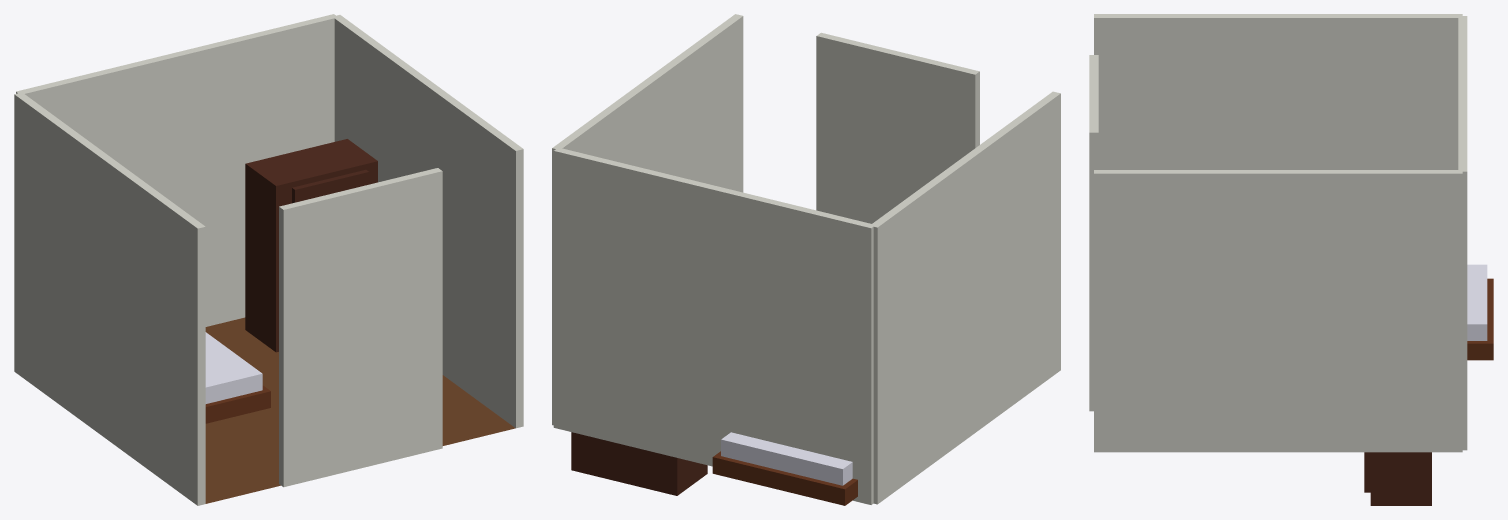
The model's file is boq_professional_6902c2b7-2c0d-40c5-b3c1-3f2d56eba36f.obj.
3 views of the same model, side by side, from view 1: azimuth 30°, elevation 25°; view 2: azimuth 150°, elevation 25°; view 3: azimuth 270°, elevation 25° (orthographic).
Parts seen in each view (by area): view 1: LeftWall_living_room, FrontWall_living_room, BackWall_living_room, RightWall_living_room, Floor_living_room, Wardrobe_living_room, Mattress_living_room, BedFrame_living_room, WardrobeDoor1_living_room, WardrobeDoor2_living_room; view 2: BackWall_living_room, LeftWall_living_room, FrontWall_living_room, RightWall_living_room, Wardrobe_living_room, Mattress_living_room, BedFrame_living_room; view 3: RightWall_living_room, LeftWall_living_room, Wardrobe_living_room, BackWall_living_room, FrontWall_living_room, Mattress_living_room, BedFrame_living_room.
Boxes of the visible parts, x1,y1,x2,y2 form: LeftWall_living_room: [14, 92, 205, 505]; FrontWall_living_room: [279, 168, 442, 487]; BackWall_living_room: [16, 14, 337, 326]; RightWall_living_room: [334, 15, 523, 428]; Floor_living_room: [205, 317, 515, 503]; Wardrobe_living_room: [245, 139, 377, 352]; Mattress_living_room: [205, 332, 262, 403]; BedFrame_living_room: [205, 385, 270, 423]; WardrobeDoor1_living_room: [292, 176, 342, 203]; WardrobeDoor2_living_room: [319, 169, 369, 194]; BackWall_living_room: [553, 147, 875, 504]; LeftWall_living_room: [871, 91, 1060, 504]; FrontWall_living_room: [816, 32, 979, 223]; RightWall_living_room: [552, 14, 743, 425]; Wardrobe_living_room: [571, 432, 707, 495]; Mattress_living_room: [721, 432, 852, 485]; BedFrame_living_room: [712, 451, 857, 505]; RightWall_living_room: [1094, 170, 1462, 452]; LeftWall_living_room: [1094, 14, 1462, 169]; Wardrobe_living_room: [1370, 452, 1431, 505]; BackWall_living_room: [1458, 16, 1467, 450]; FrontWall_living_room: [1089, 55, 1098, 411]; Mattress_living_room: [1467, 264, 1487, 340]; BedFrame_living_room: [1467, 278, 1493, 360].
Bounding box in the file's own units: 12.3 × 12 × 13.15.
